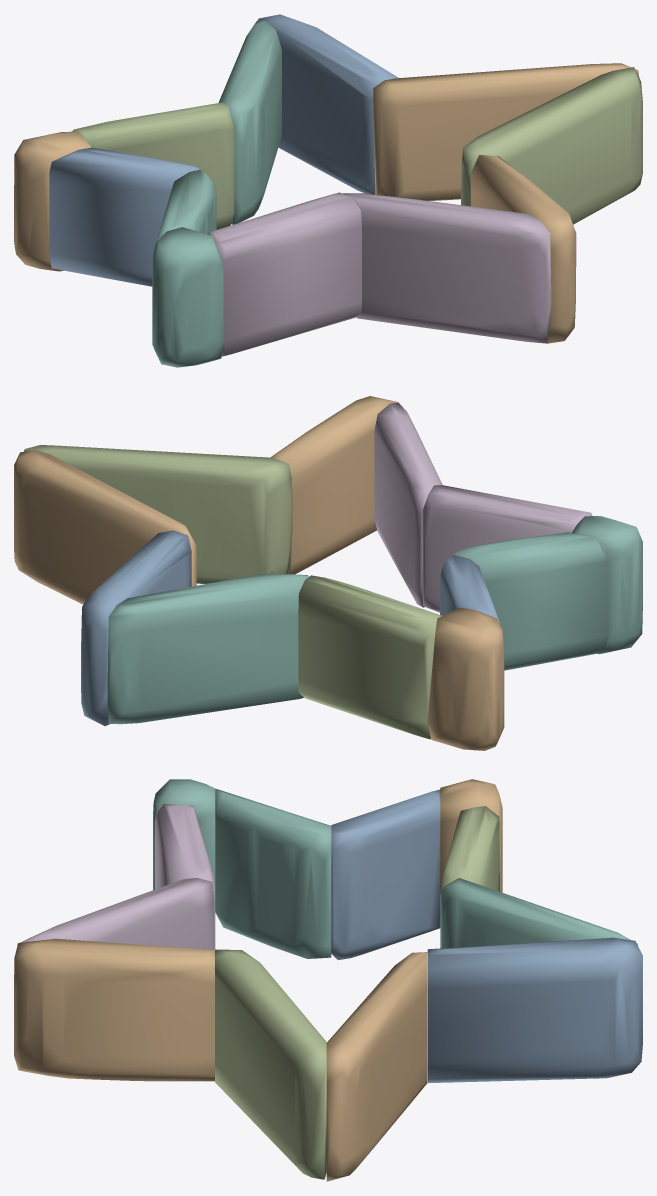
3 views of the same model, one above another, from view 1: azimuth 30°, elevation 25°; view 2: azimuth 150°, elevation 25°; view 3: azimuth 270°, elevation 25° (orthographic). The views are drawn at different scales.
Bounding box in the file's own units: 1.82 × 0.3732 × 1.68.
